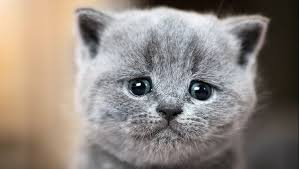kedi: (59, 2, 272, 167)
